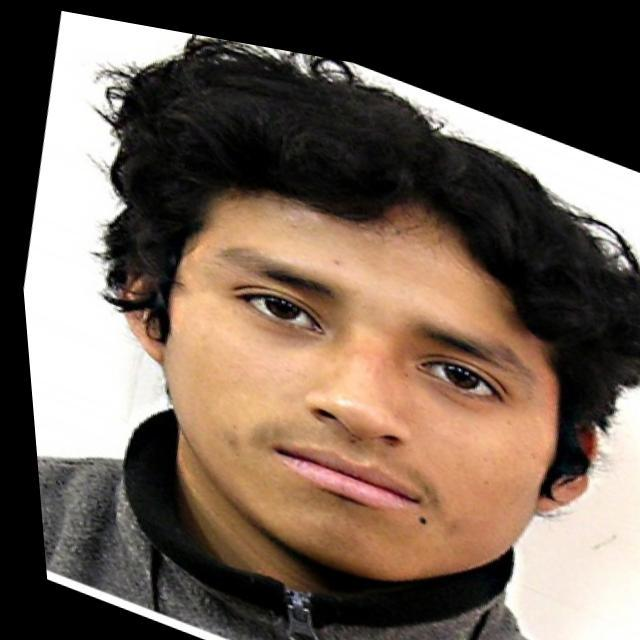Nonhelmet: (120, 45, 610, 600)
